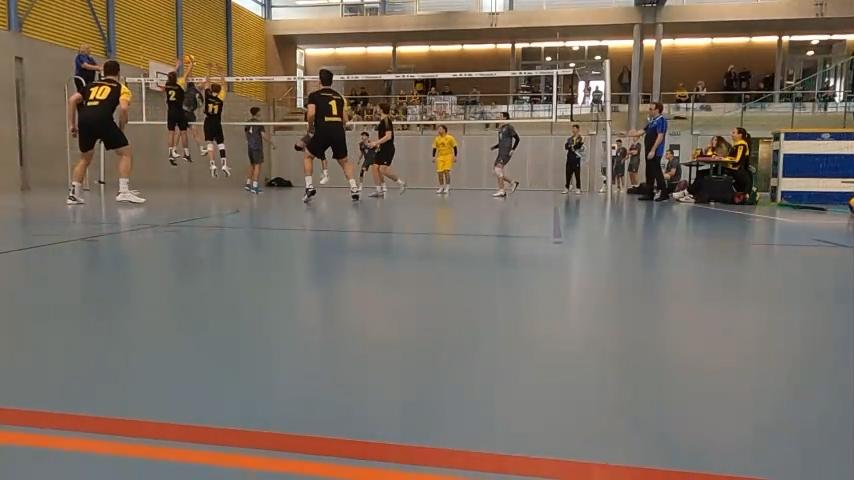Attack: (179, 69, 210, 157)
Block: (198, 60, 235, 184), (157, 58, 195, 170)
Player: (67, 60, 144, 204), (303, 69, 359, 202), (370, 103, 406, 197), (244, 107, 275, 193), (491, 112, 519, 196), (432, 125, 457, 193), (319, 154, 328, 184), (382, 182, 384, 187)
ball: (183, 52, 197, 65)
